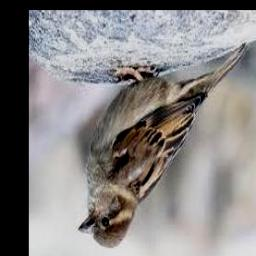Sparrow: (79, 43, 249, 248)
